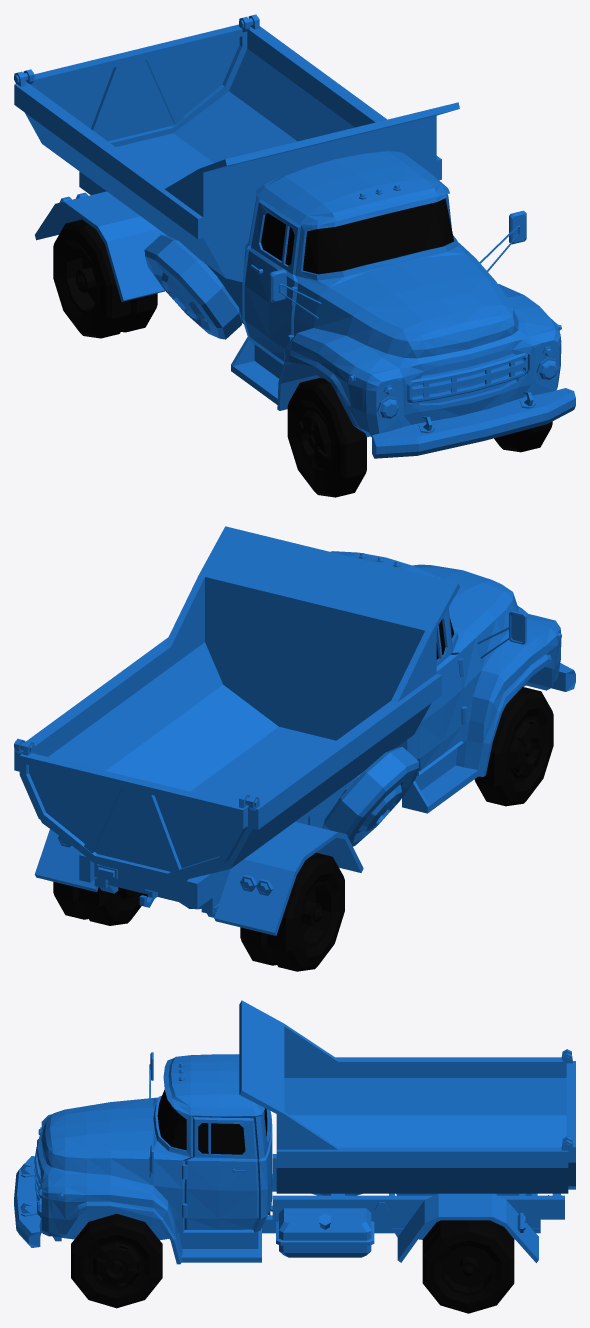
The model's file is SM_truck.fbx.
3 renders of one model, top to bottom at view 1: azimuth 30°, elevation 25°; view 2: azimuth 150°, elevation 25°; view 3: azimuth 270°, elevation 25°, orthographic. The views are drawn at different scales.
Visible parts, largest first — view 1: Cube, Cylinder_3, Cylinder_2, Cylinder; view 2: Cube, Cylinder_3, Cylinder_2; view 3: Cube, Cylinder_3, Cylinder.
Part boxes in pixels (x1,y1,x2,y2): Cube: (14,14,575,458); Cylinder_3: (53,219,157,338); Cylinder_2: (287,378,366,497); Cylinder: (494,421,552,452); Cube: (14,526,575,935); Cylinder_3: (53,852,344,971); Cylinder_2: (474,687,553,806); Cube: (14,1000,575,1264); Cylinder_3: (422,1220,514,1313); Cylinder: (71,1213,162,1308).
Size of the model in its own units: 274 by 288 by 656.
